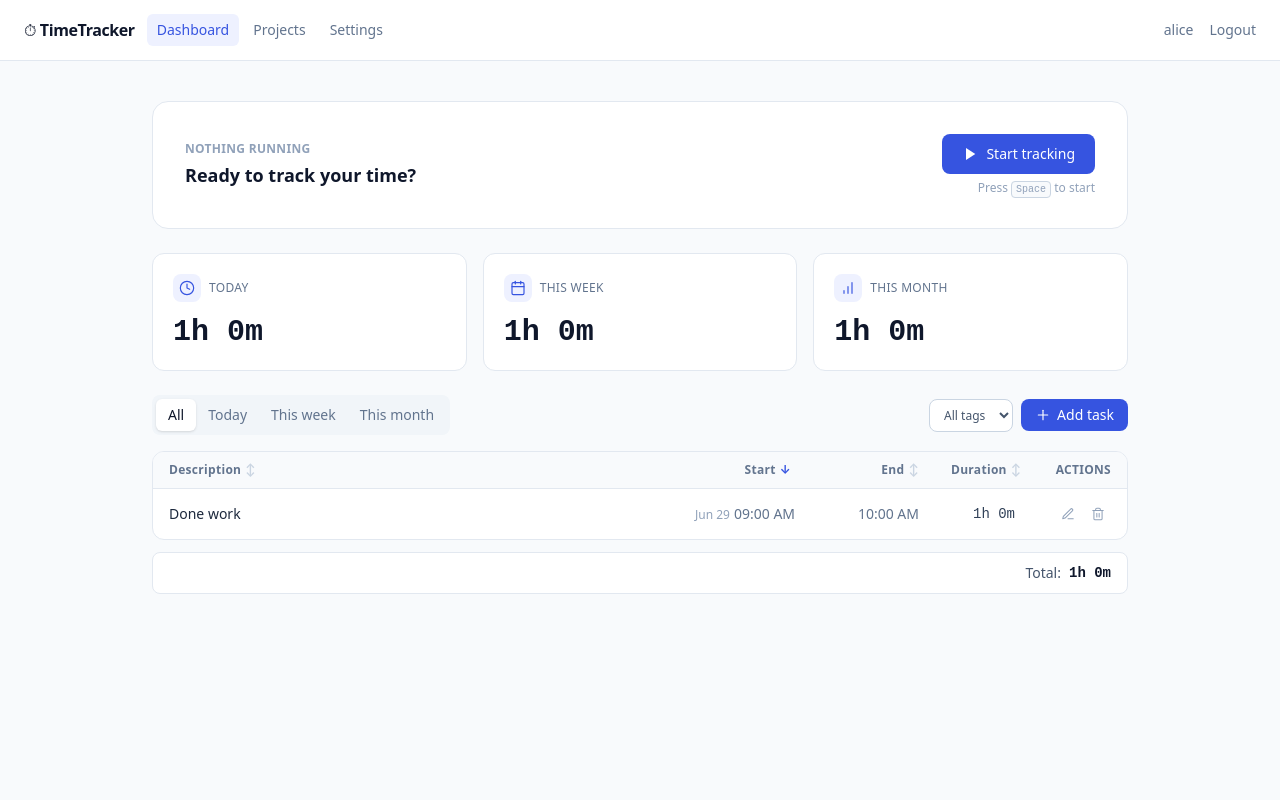
Test: DashboardPage › shows edit form when edit button is clicked
Click the button with test id "edit-task-done-2".
click(1068, 514)  # box x1=1055 y1=501 x2=1081 y2=527
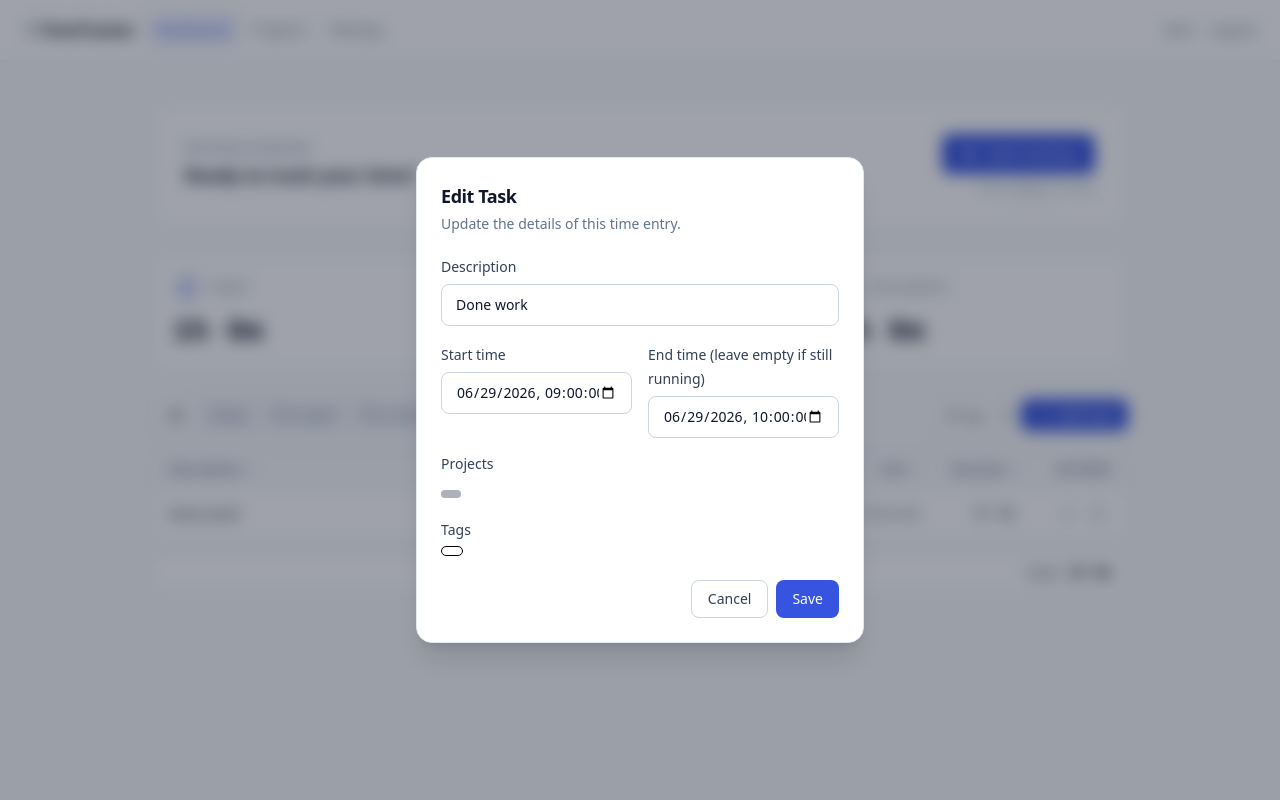
Now the dialog with test id "task-form" is shown, box x1=416 y1=157 x2=864 y2=643
